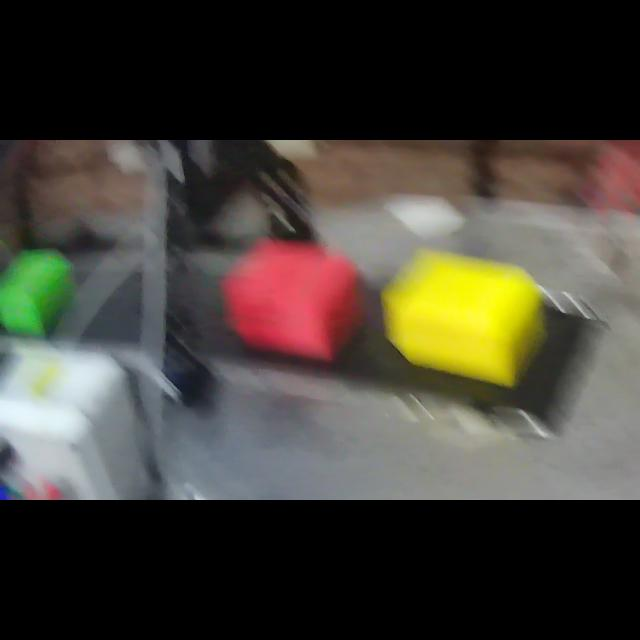greenBox: (0, 241, 78, 339)
redBox: (216, 230, 362, 364)
yellowBox: (382, 247, 550, 398)
